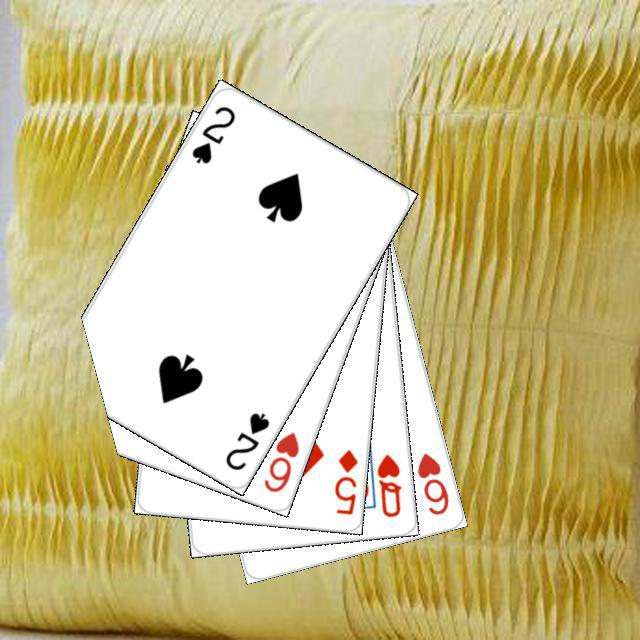2s: (220, 407, 272, 472), (186, 101, 237, 166)
5d: (329, 444, 360, 517)
6h: (258, 427, 301, 494), (412, 448, 451, 517)
Qh: (371, 449, 404, 519)
